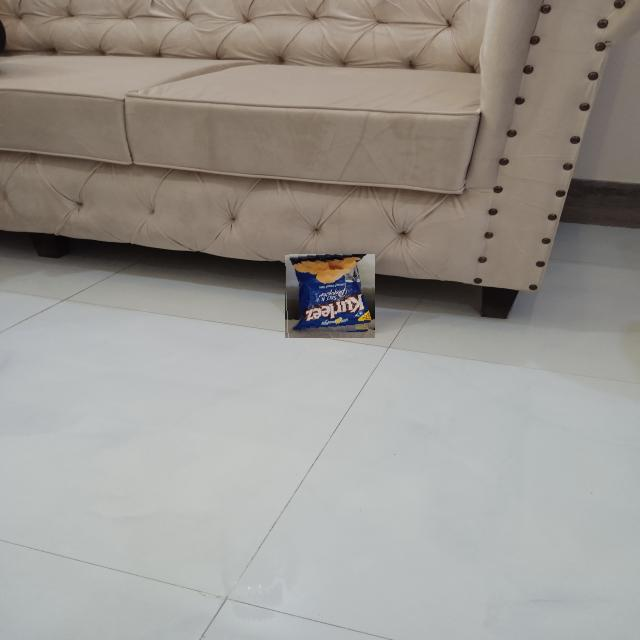Plastic: (284, 254, 375, 338)
